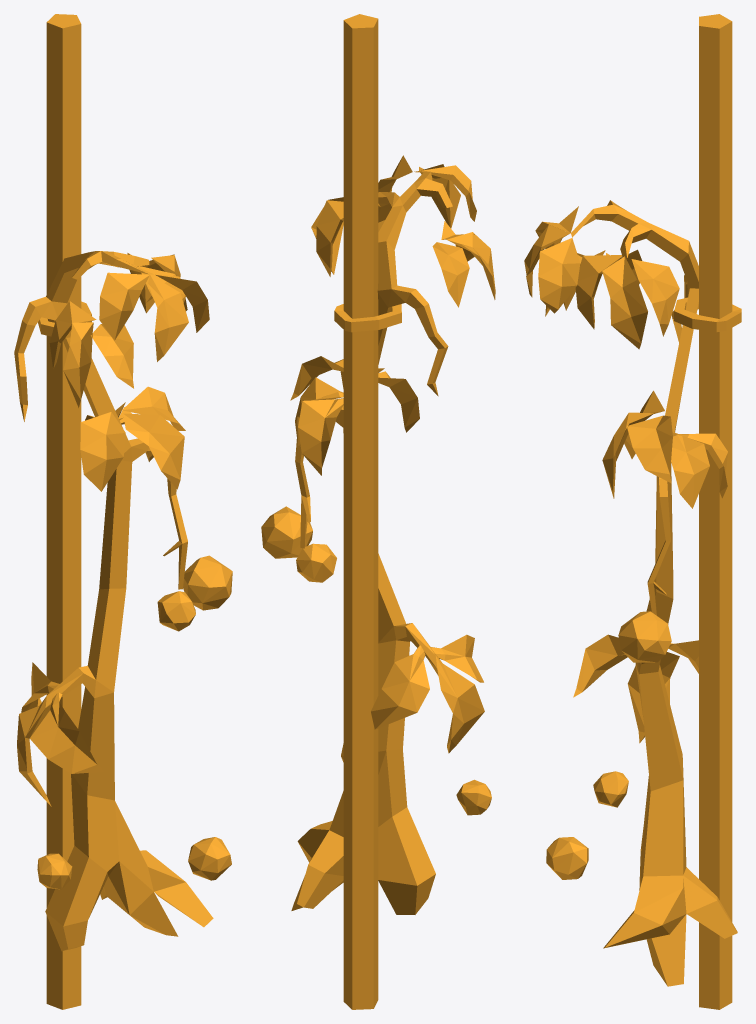
Rendered from SM_Tomato_Dead_Single_A.fbx.
3 views of the same model, side by side, from view 1: azimuth 30°, elevation 25°; view 2: azimuth 150°, elevation 25°; view 3: azimuth 270°, elevation 25° (orthographic).
Visible parts, largest first — view 1: tomato-dead-single-a; view 2: tomato-dead-single-a; view 3: tomato-dead-single-a.
Part boxes in pixels (x1=…): tomato-dead-single-a: x1=14, y1=14, x2=232, y2=1009; tomato-dead-single-a: x1=261, y1=14, x2=495, y2=1009; tomato-dead-single-a: x1=524, y1=14, x2=741, y2=1009.
Bounding box in the file's own units: 0.3654 × 1.61 × 0.3243.
